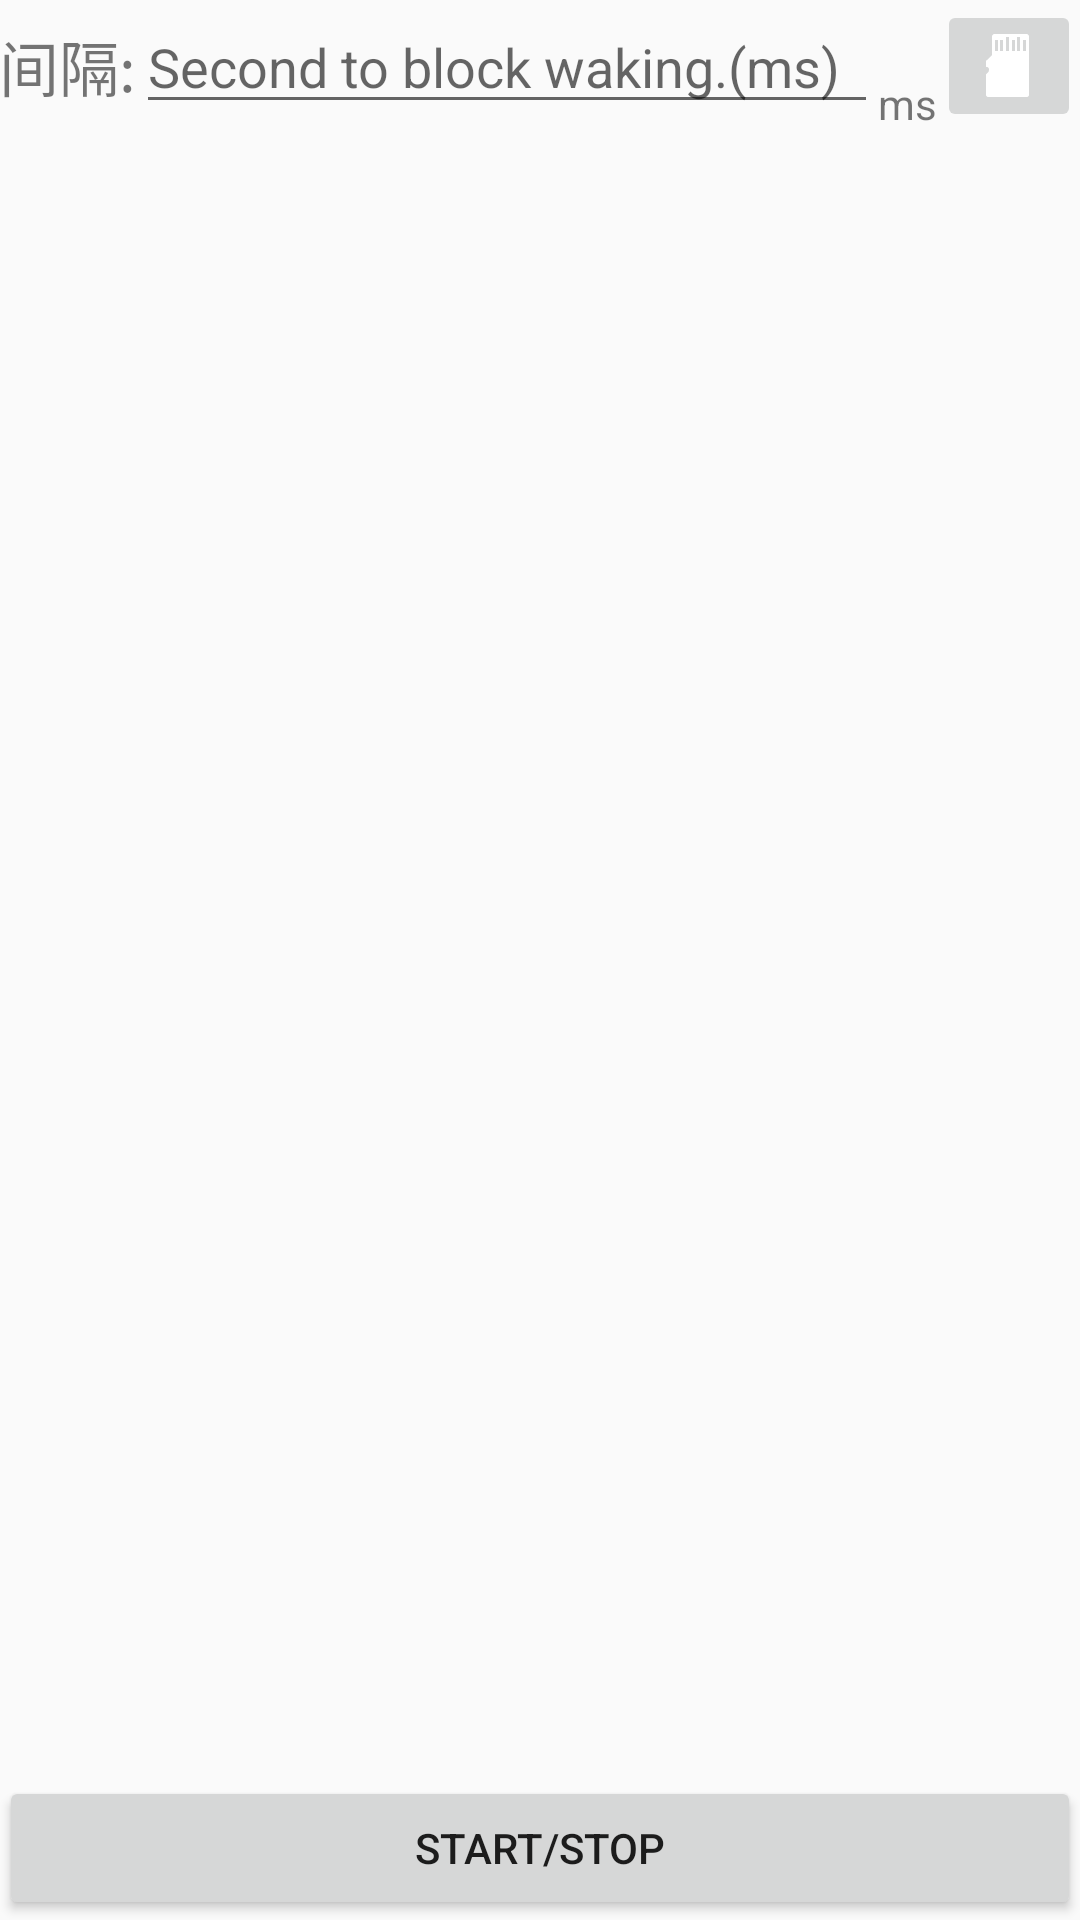

Icon bounding boxes for this 1080 × 1920 phone screenshot, format (x1, y1, x2, y2):
sdcard: (949, 18, 1069, 114)
